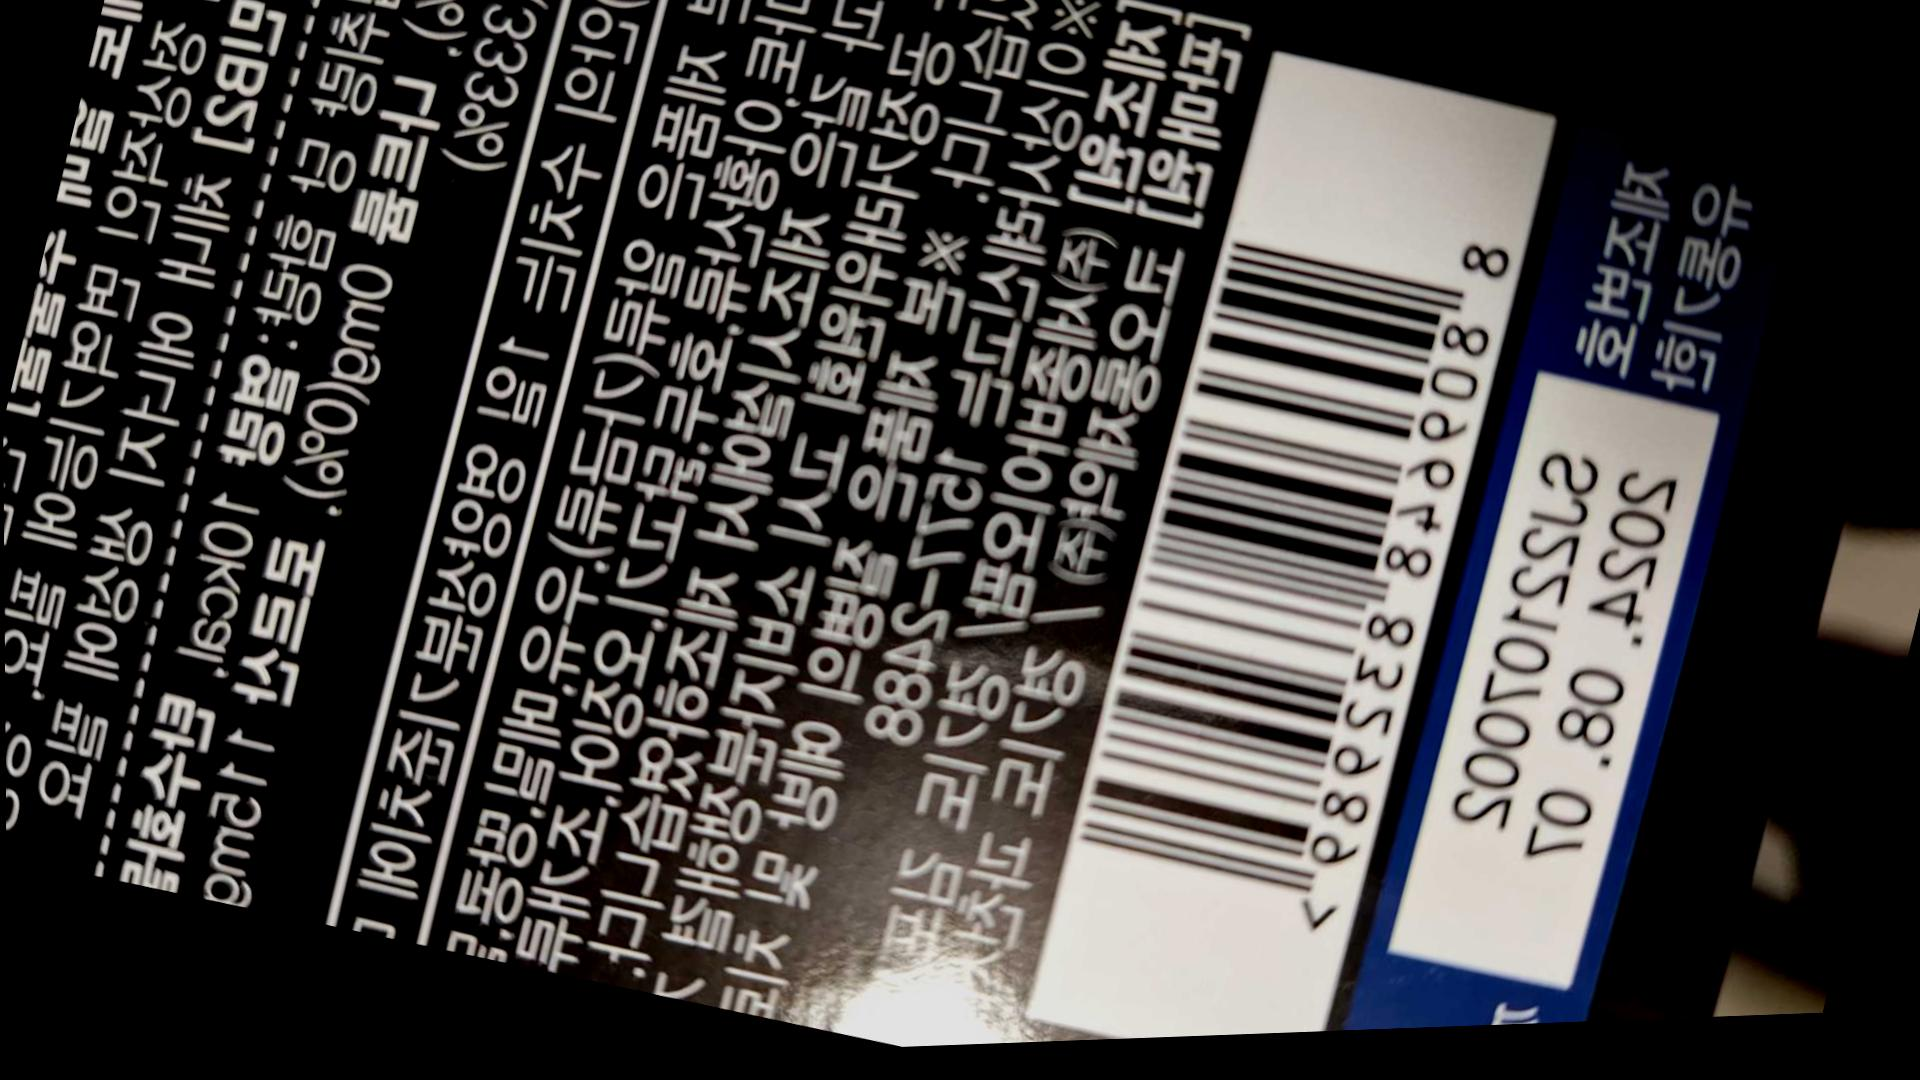chicken-6500-2024-8-27: (1048, 169, 1539, 981)
